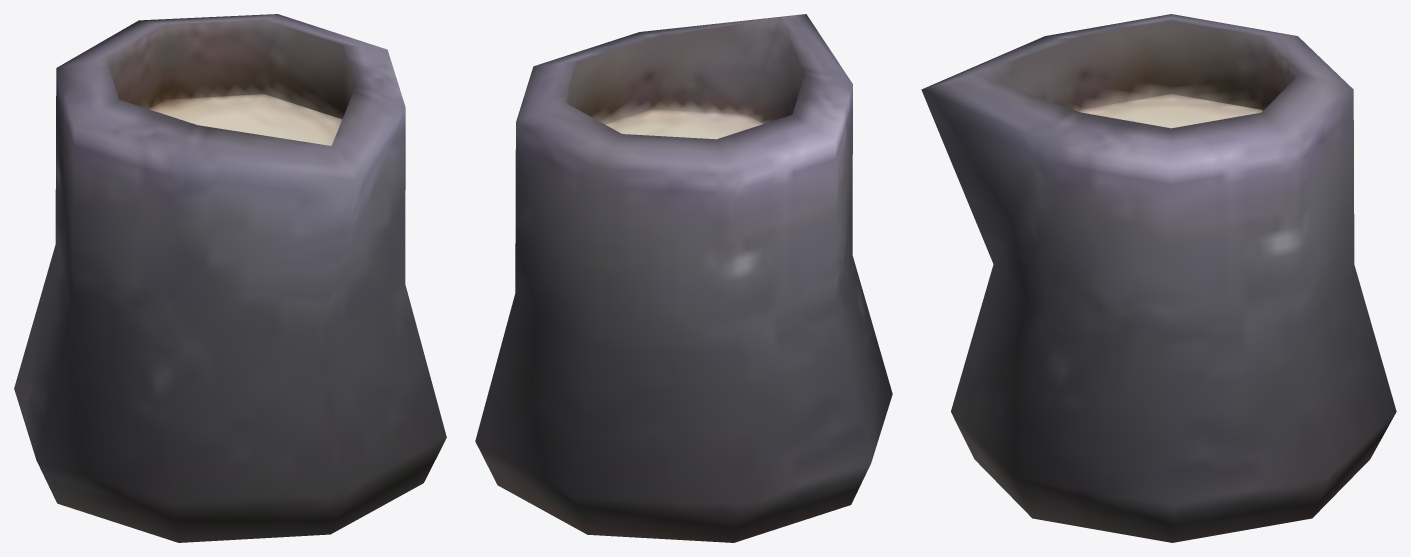
3 renders of one model, left to right at view 1: azimuth 30°, elevation 25°; view 2: azimuth 150°, elevation 25°; view 3: azimuth 270°, elevation 25°, orthographic. The views are drawn at different scales.
Bounding box in the file's own units: 0.153 × 0.1466 × 0.1641.
Materials: 1 (1 with a texture image).
